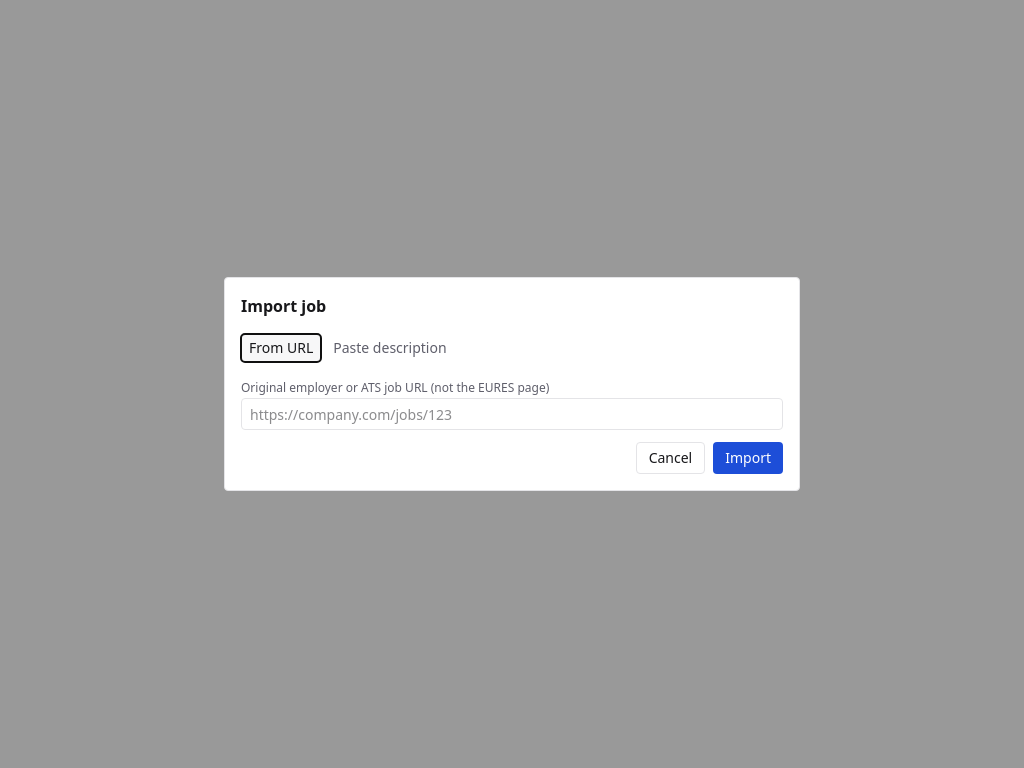
Test: ImportJobDialog › switches to manual paste when the page cannot be retrieved
The image size is (1024, 768).
Type "https://careers.example.com/jobs/9" into the field labelled "Original employer or ATS job URL (not the EURES page)" at (512, 414), box [241,398,783,430]
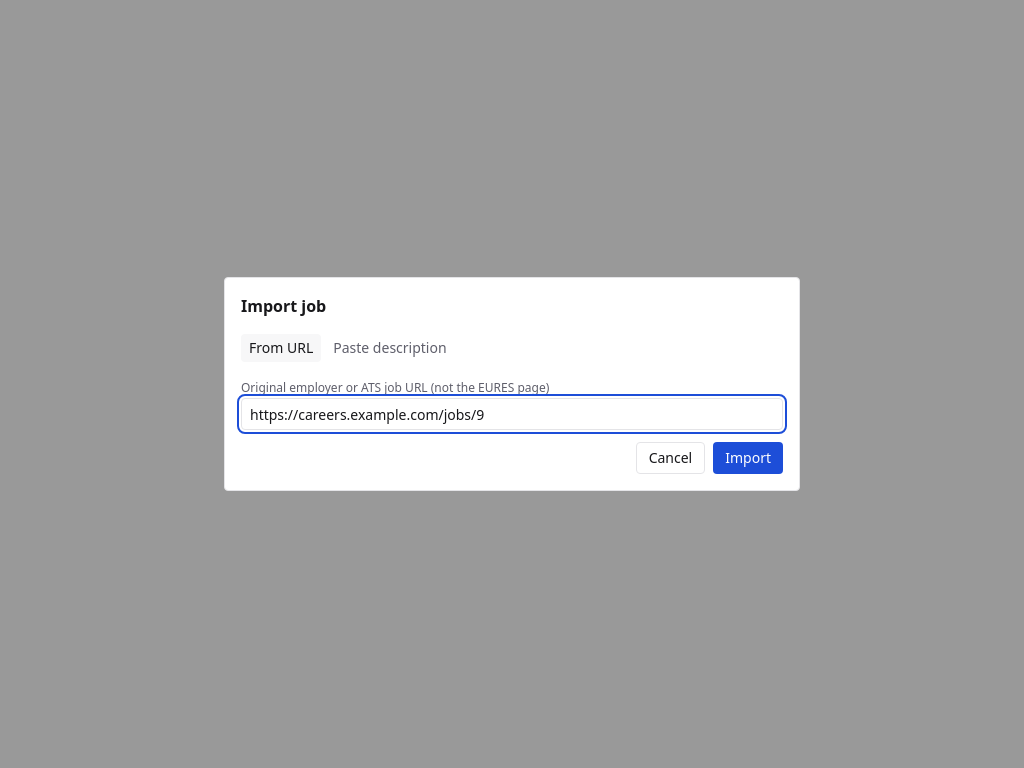
Click the button "Import" at (748, 458), box [713,442,783,474]
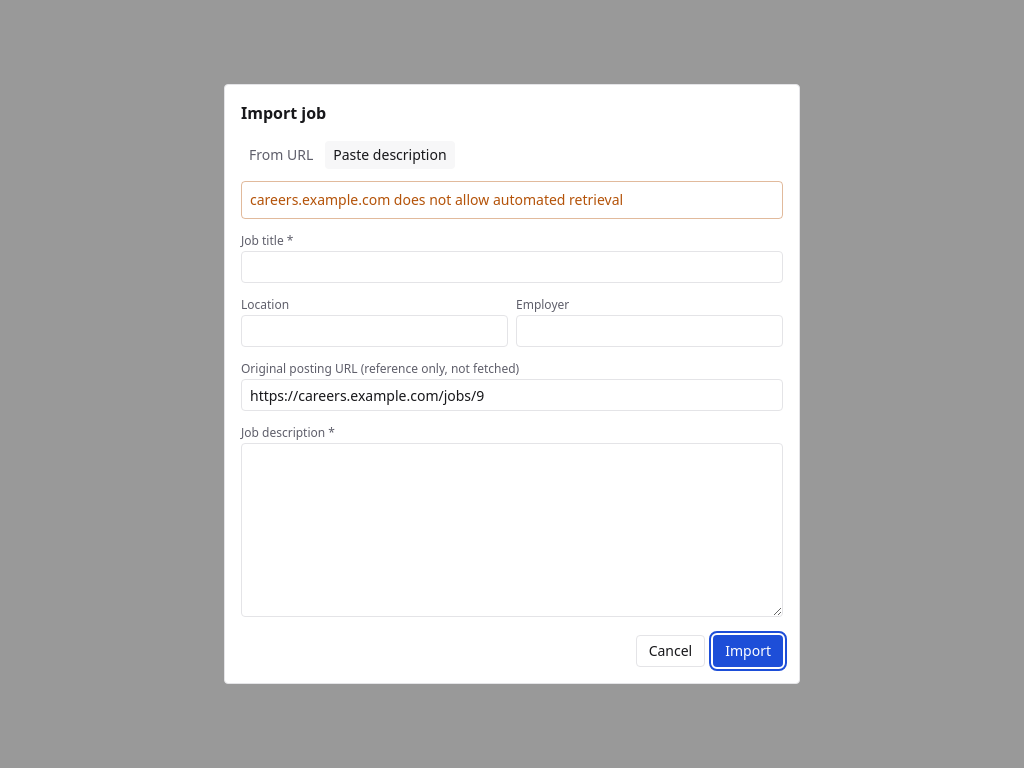
Check: the text "careers.example.com does not allow automated retrieval" is shown, box [241,181,783,219]
Check: the field labelled "Original posting URL (reference only, not fetched)" holds "https://careers.example.com/jobs/9", box [241,379,783,411]
Type "Data Engineer" into the field labelled "Job title *" at (512, 267), box [241,251,783,283]
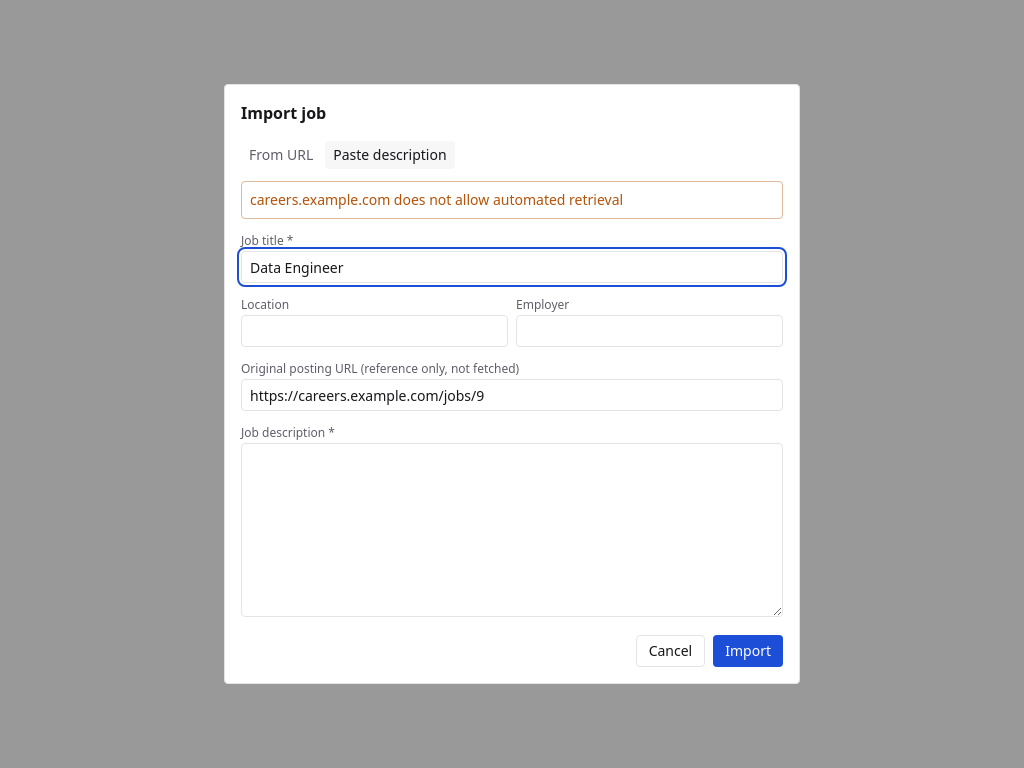
Type "We need a data engineer to build pipelines with Python and dbt for our desk." into the text box labelled "Job description *" at (512, 530), box [241,443,783,617]
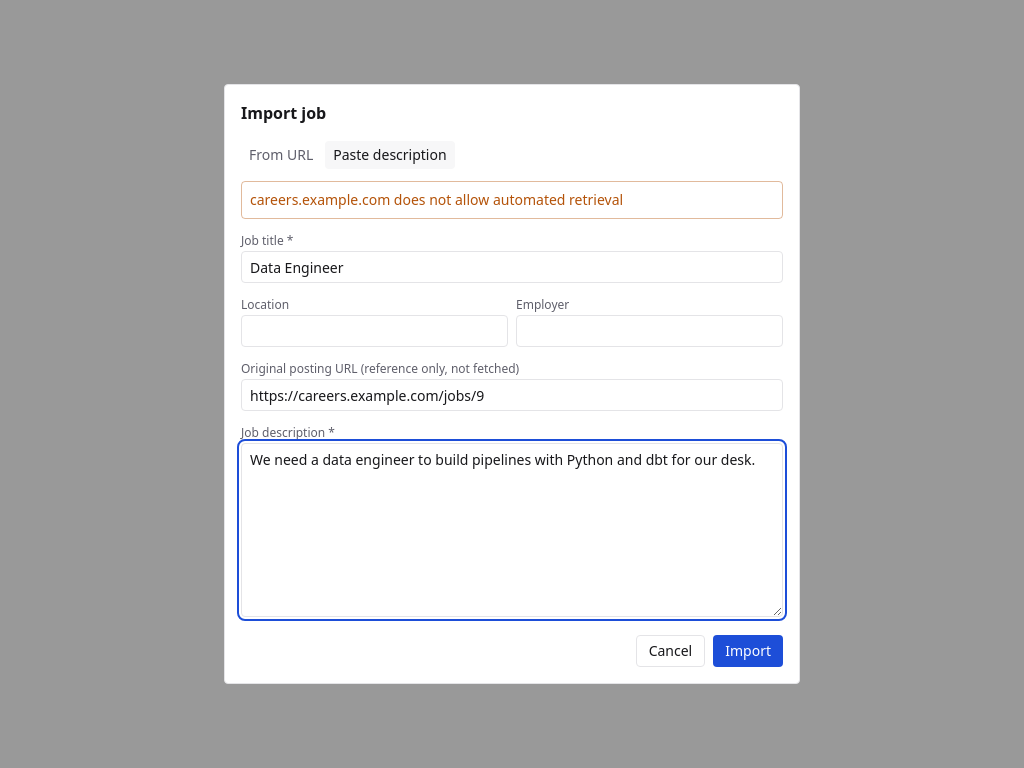
Click the button "Import" at (748, 651), box [713,635,783,667]
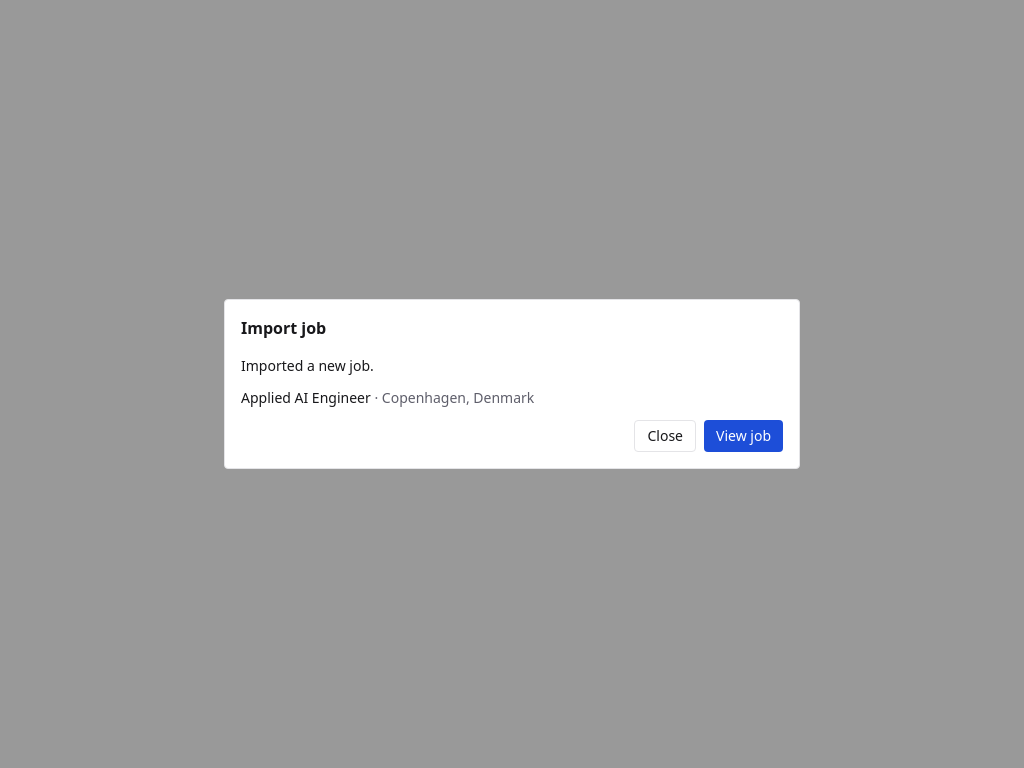
Check: the text "Imported a new job." is shown, box [241,356,374,375]
